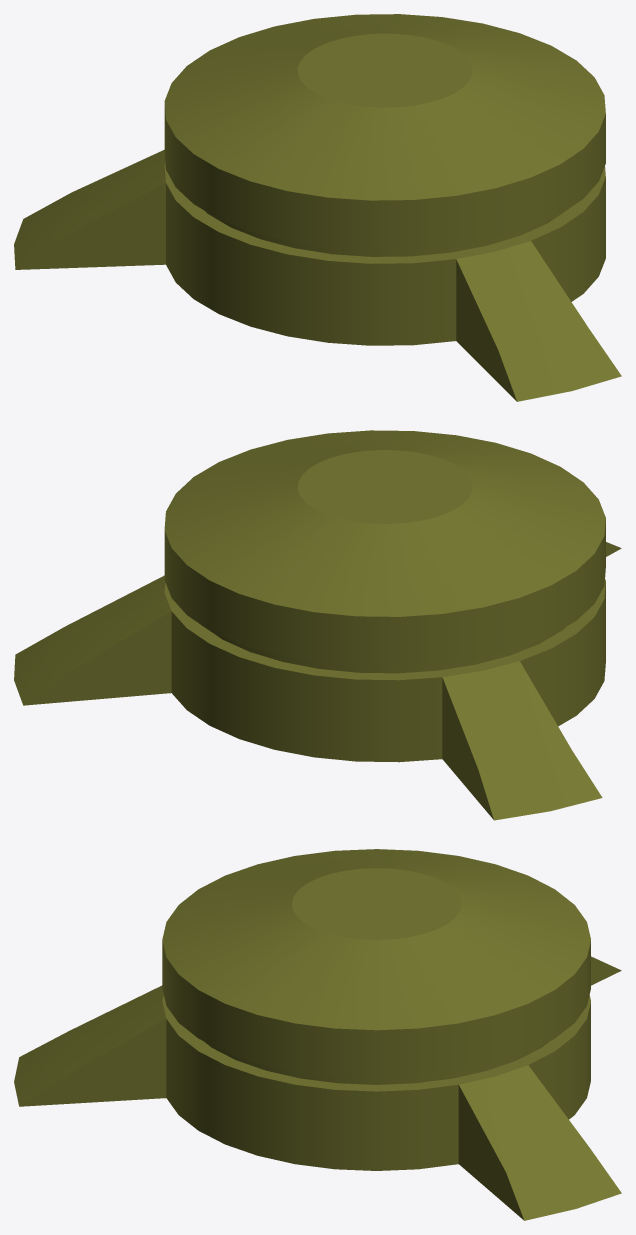
File: TurretBase.fbx
3 renders of one model, top to bottom at view 1: azimuth 30°, elevation 25°; view 2: azimuth 150°, elevation 25°; view 3: azimuth 270°, elevation 25°, orthographic. The views are drawn at different scales.
Parts seen in each view (by area): view 1: Cylinder; view 2: Cylinder; view 3: Cylinder.
Boxes of the visible parts, x1,y1,x2,y2 form: Cylinder: (14, 14, 621, 401); Cylinder: (14, 430, 621, 820); Cylinder: (14, 849, 621, 1220).
Bounding box in the file's own units: 514 × 153 × 475.
